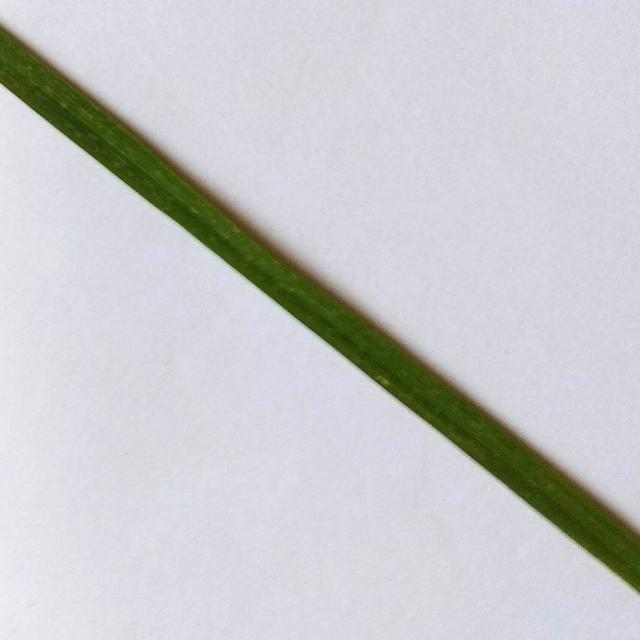Rice_Healthy: (0, 25, 640, 592)
